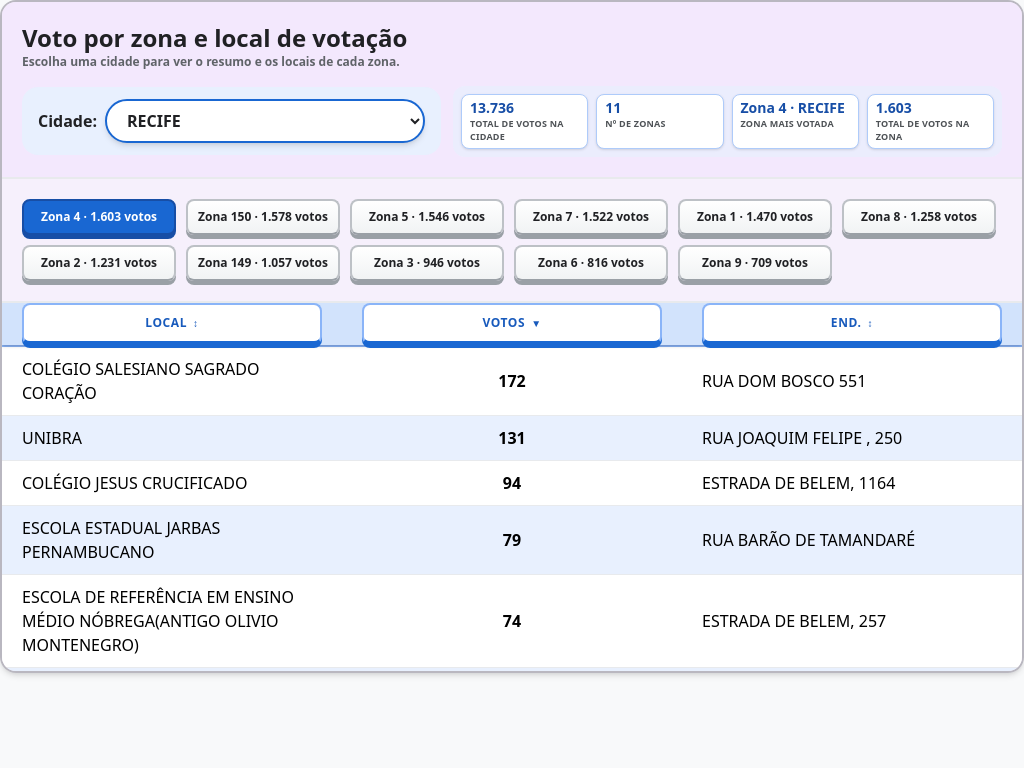
Test: TabelaZonas › recalcula tudo ao trocar de cidade
Select "CARUARU" in the dropdown named "Escolher cidade": (265, 121) [105,99,425,143]
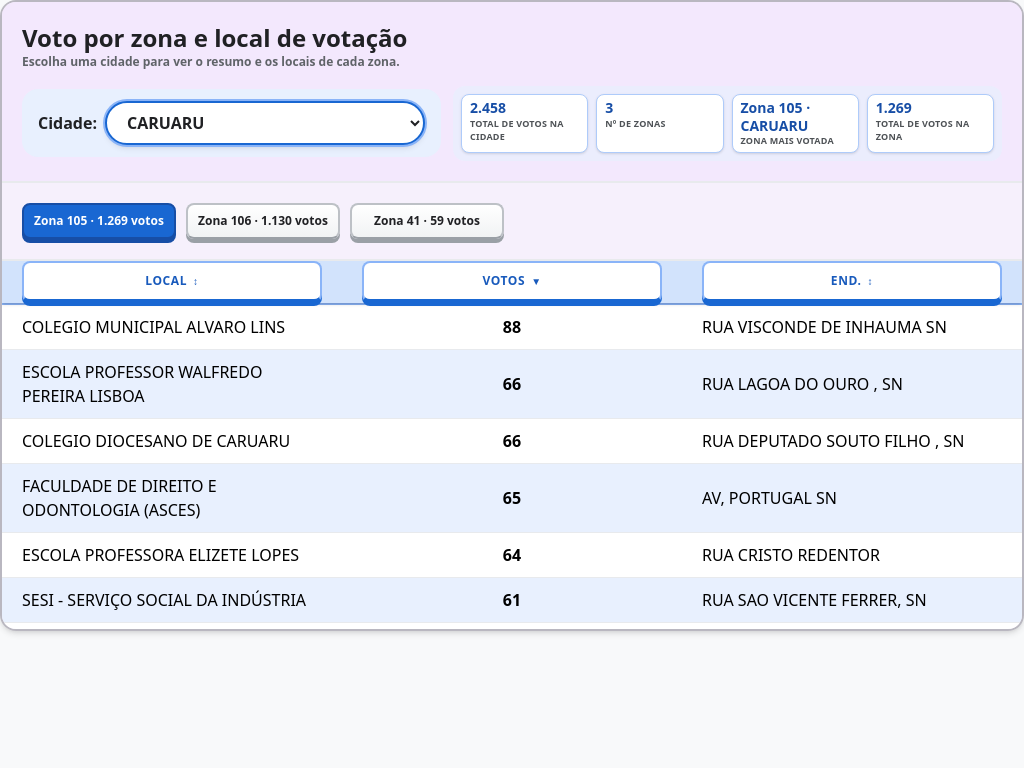
Result: the text "3" is shown at [605,98,613,117]
Result: the cell "COLEGIO MUNICIPAL ALVARO LINS" is shown at [2,304,342,349]
